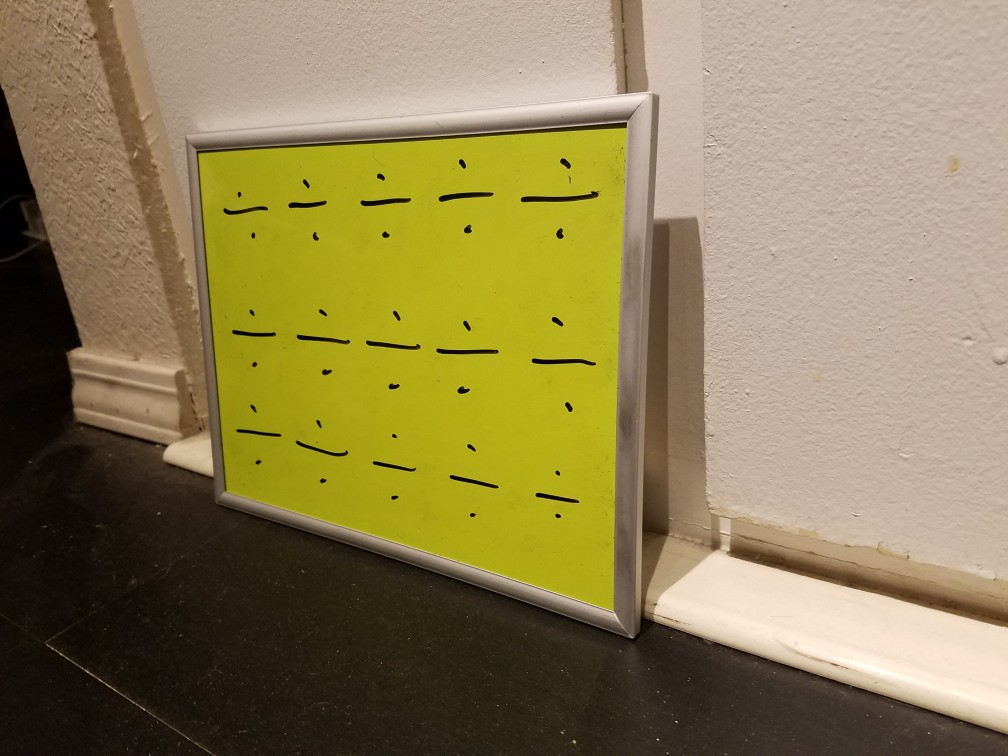div: (518, 299, 609, 421), (513, 146, 609, 253), (423, 151, 507, 248), (434, 301, 501, 412), (362, 298, 429, 404), (518, 457, 593, 536), (440, 432, 501, 529), (289, 407, 353, 499), (287, 293, 348, 387), (362, 423, 422, 515), (350, 164, 410, 240), (227, 397, 282, 479), (212, 181, 270, 244), (227, 301, 275, 370), (283, 171, 330, 240)
